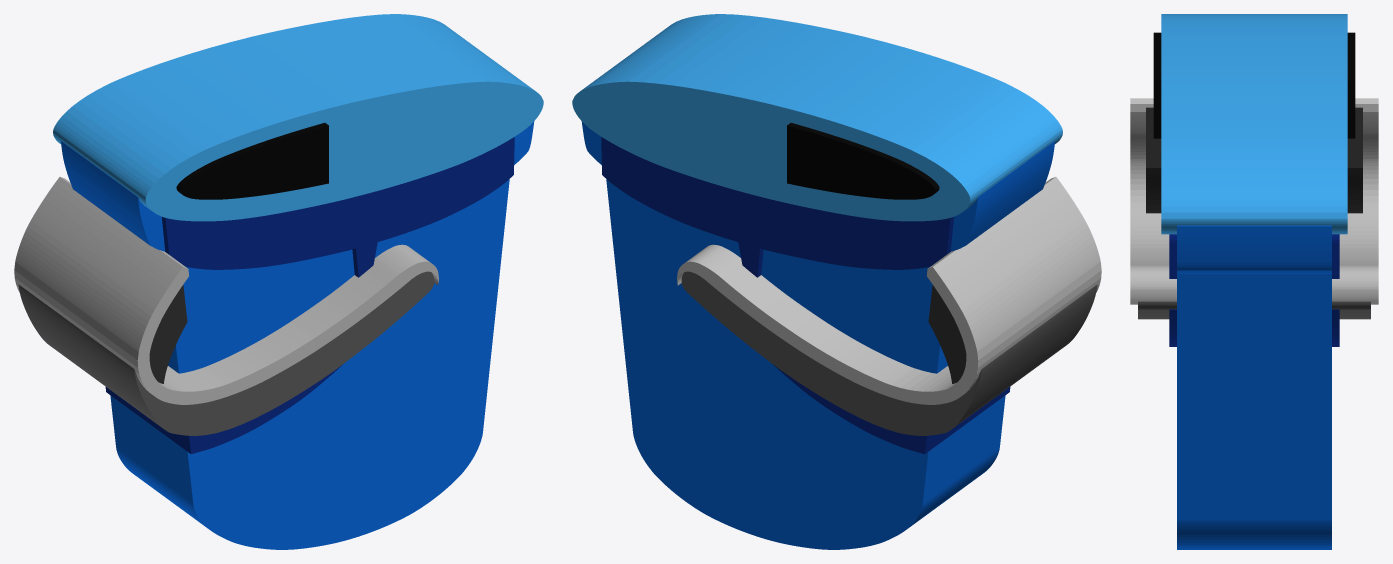
The model's file is U+1FAA3.obj.
3 renders of one model, left to right at view 1: azimuth 30°, elevation 25°; view 2: azimuth 150°, elevation 25°; view 3: azimuth 270°, elevation 25°, orthographic.
Parts seen in each view (by area): view 1: U+1FAA3_layer00_obj00, U+1FAA3_layer02_obj00, U+1FAA3_layer06_obj00, U+1FAA3_layer01_obj00, U+1FAA3_layer05_obj00, U+1FAA3_layer03_obj00, U+1FAA3_layer00_obj01, U+1FAA3_layer01_obj02, U+1FAA3_layer04_obj00; view 2: U+1FAA3_layer00_obj00, U+1FAA3_layer02_obj00, U+1FAA3_layer06_obj00, U+1FAA3_layer01_obj00, U+1FAA3_layer05_obj00, U+1FAA3_layer03_obj00, U+1FAA3_layer00_obj01, U+1FAA3_layer01_obj02, U+1FAA3_layer04_obj00; view 3: U+1FAA3_layer00_obj00, U+1FAA3_layer02_obj00, U+1FAA3_layer06_obj00, U+1FAA3_layer00_obj01, U+1FAA3_layer04_obj00, U+1FAA3_layer03_obj00, U+1FAA3_layer05_obj00, U+1FAA3_layer01_obj00, U+1FAA3_layer01_obj02.
Part boxes in pixels (bbox=[...]): U+1FAA3_layer00_obj00: bbox=[110, 179, 509, 549]; U+1FAA3_layer02_obj00: bbox=[53, 14, 543, 221]; U+1FAA3_layer06_obj00: bbox=[14, 177, 438, 404]; U+1FAA3_layer01_obj00: bbox=[162, 137, 514, 277]; U+1FAA3_layer05_obj00: bbox=[18, 271, 434, 435]; U+1FAA3_layer03_obj00: bbox=[176, 122, 328, 199]; U+1FAA3_layer00_obj01: bbox=[61, 121, 534, 251]; U+1FAA3_layer01_obj02: bbox=[105, 364, 342, 454]; U+1FAA3_layer04_obj00: bbox=[149, 285, 187, 383]; U+1FAA3_layer00_obj00: bbox=[606, 179, 1005, 549]; U+1FAA3_layer02_obj00: bbox=[572, 14, 1062, 221]; U+1FAA3_layer06_obj00: bbox=[677, 177, 1101, 404]; U+1FAA3_layer01_obj00: bbox=[601, 137, 953, 277]; U+1FAA3_layer05_obj00: bbox=[681, 271, 1097, 435]; U+1FAA3_layer03_obj00: bbox=[787, 122, 939, 199]; U+1FAA3_layer00_obj01: bbox=[581, 121, 1054, 251]; U+1FAA3_layer01_obj02: bbox=[773, 364, 1010, 454]; U+1FAA3_layer04_obj00: bbox=[928, 285, 966, 383]; U+1FAA3_layer00_obj00: bbox=[1177, 273, 1331, 549]; U+1FAA3_layer02_obj00: bbox=[1161, 14, 1347, 234]; U+1FAA3_layer06_obj00: bbox=[1130, 98, 1378, 304]; U+1FAA3_layer00_obj01: bbox=[1177, 225, 1331, 273]; U+1FAA3_layer04_obj00: bbox=[1146, 107, 1362, 213]; U+1FAA3_layer03_obj00: bbox=[1153, 32, 1355, 138]; U+1FAA3_layer05_obj00: bbox=[1138, 301, 1370, 319]; U+1FAA3_layer01_obj00: bbox=[1169, 234, 1339, 278]; U+1FAA3_layer01_obj02: bbox=[1169, 309, 1339, 346].
Size of the model in its own units: 0.3154 by 0.3174 by 0.16.
